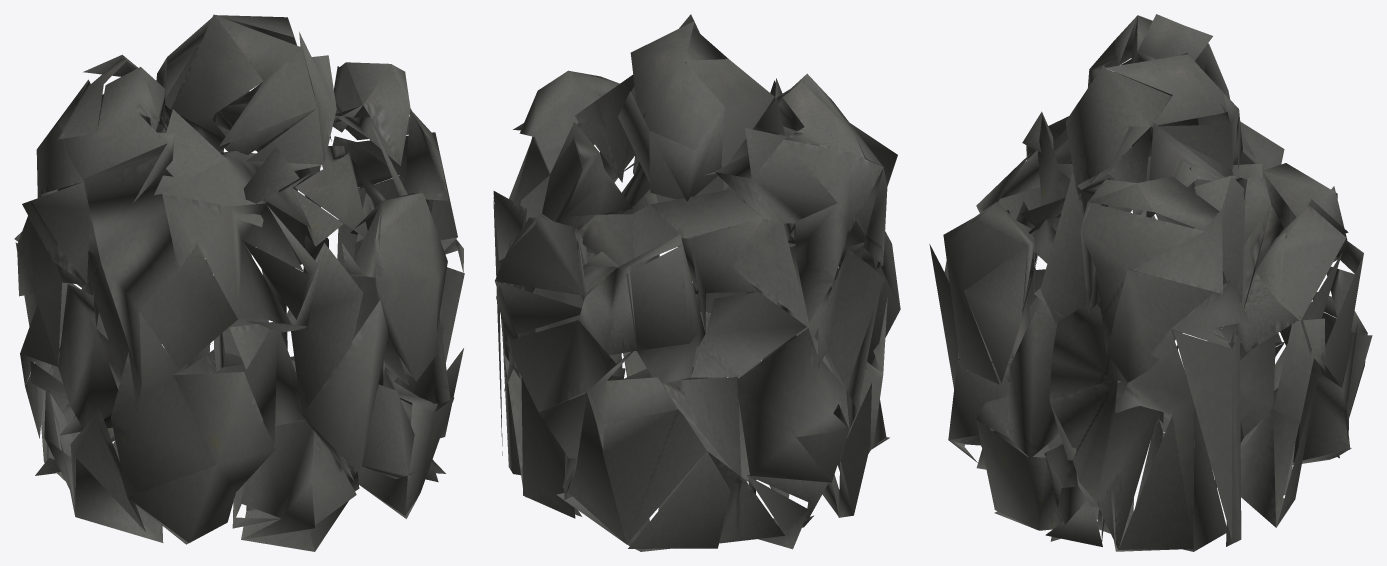
File: terrain-rock.glb
3 renders of one model, left to right at view 1: azimuth 30°, elevation 25°; view 2: azimuth 150°, elevation 25°; view 3: azimuth 270°, elevation 25°, orthographic. The views are drawn at different scales.
Visible parts, largest first — view 1: terrain-rock; view 2: terrain-rock; view 3: terrain-rock.
Boxes of the visible parts, <box> form: terrain-rock: <box>14,14,464,551</box>; terrain-rock: <box>493,14,900,551</box>; terrain-rock: <box>929,14,1372,551</box>.
Size of the model in its own units: 0.9 by 0.98 by 0.9.
1 material, 1 textured.
